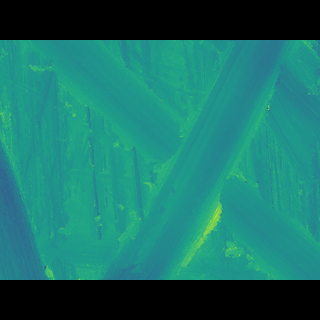Loch: (20, 69, 320, 250)
